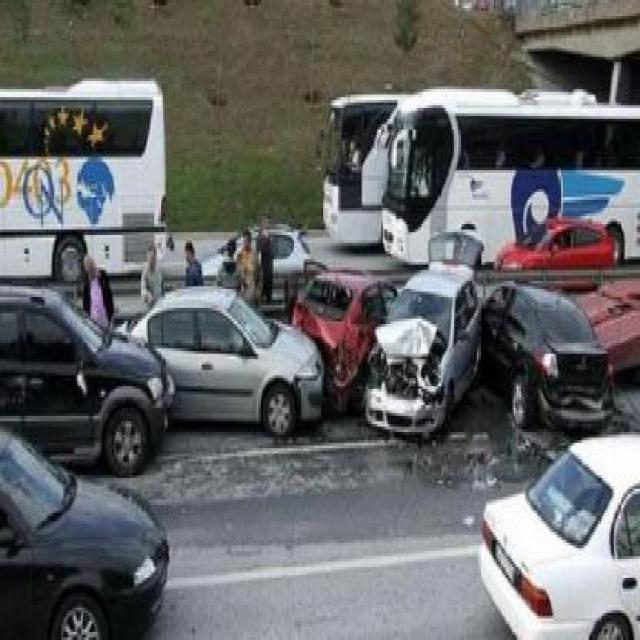accident: (160, 219, 365, 456), (397, 232, 618, 443), (322, 243, 486, 443)
